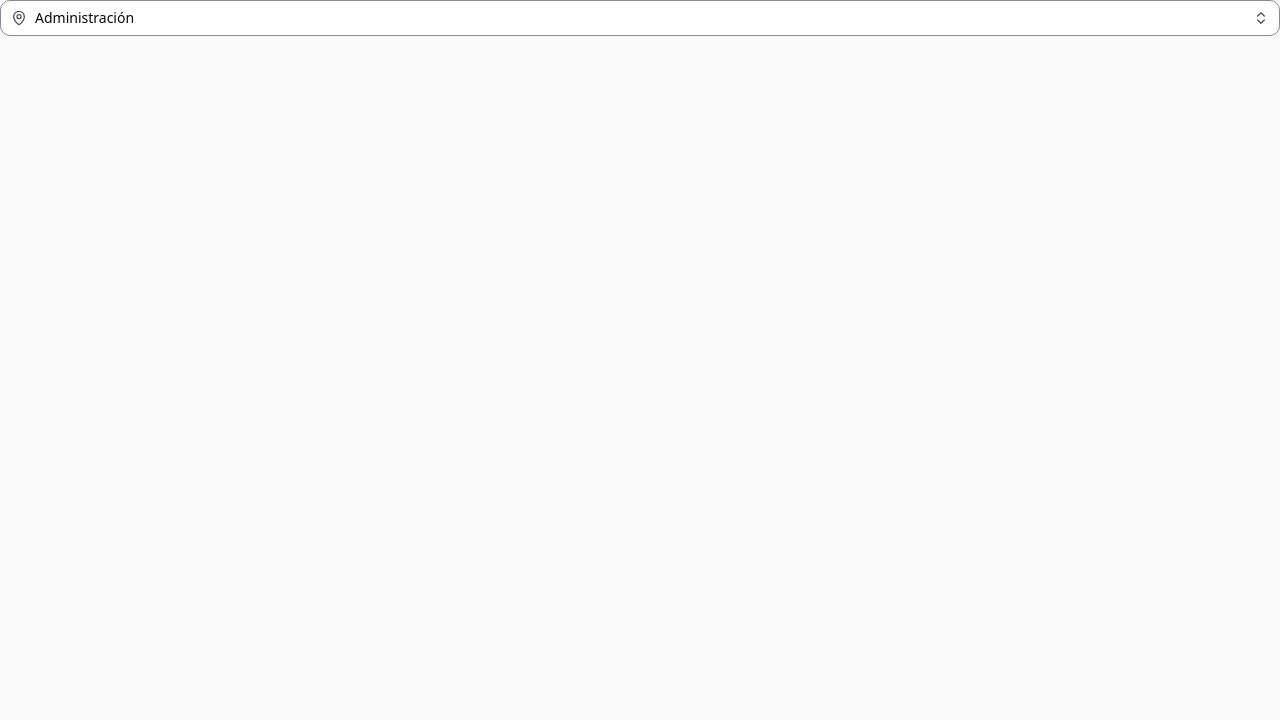
Scenario: LocationPicker › pone la última usada arriba y se elige con el teclado
The image size is (1280, 720).
Later steps or results of the test are not shown.
What coordinates should you click on to do the following:
click the dropdown
I would click on:
 (85, 18)
Its box is [0,0,1279,36].
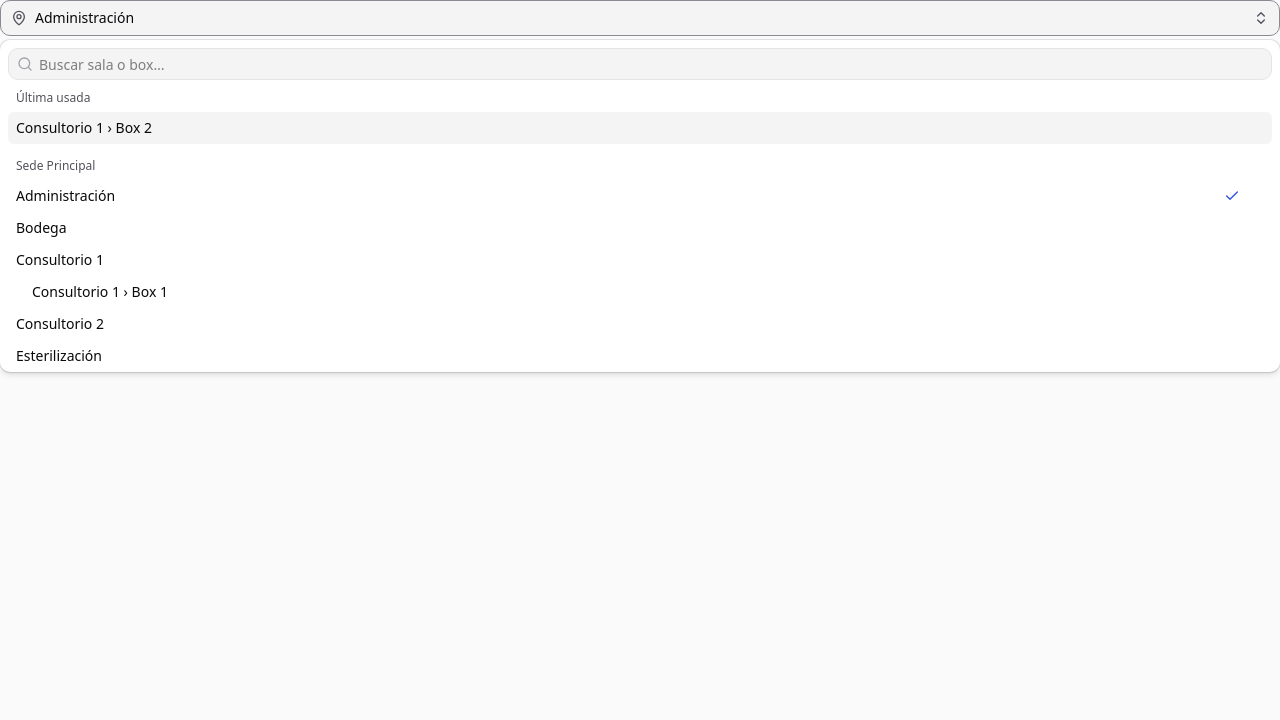
Check: the option "Consultorio 1 › Box 2" is shown, box [8,112,1272,144]
Check: the text "Última usada" is shown, box [16,89,90,106]
